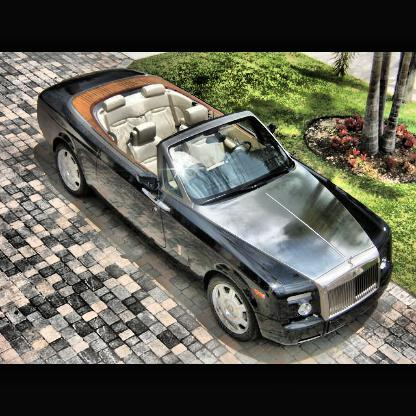Rolls-Royce Phantom Drophead Coupe Convertible 2012: (36, 70, 392, 348)
